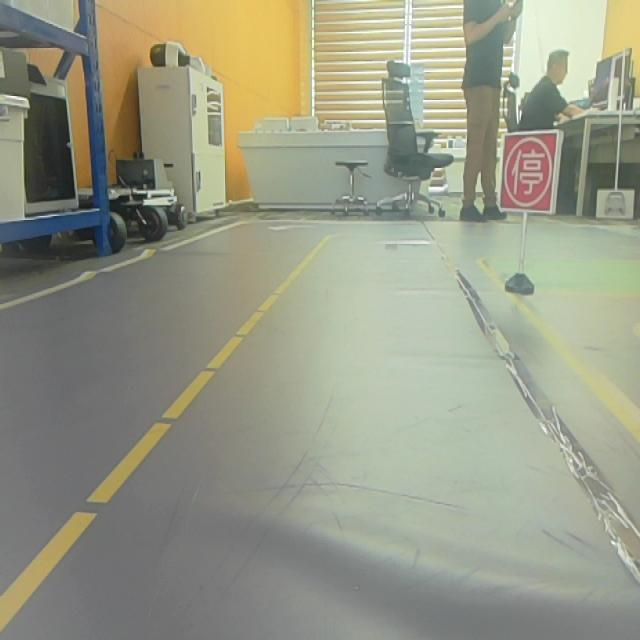left_lane: (0, 235, 329, 629)
right_lane: (478, 260, 640, 450)
